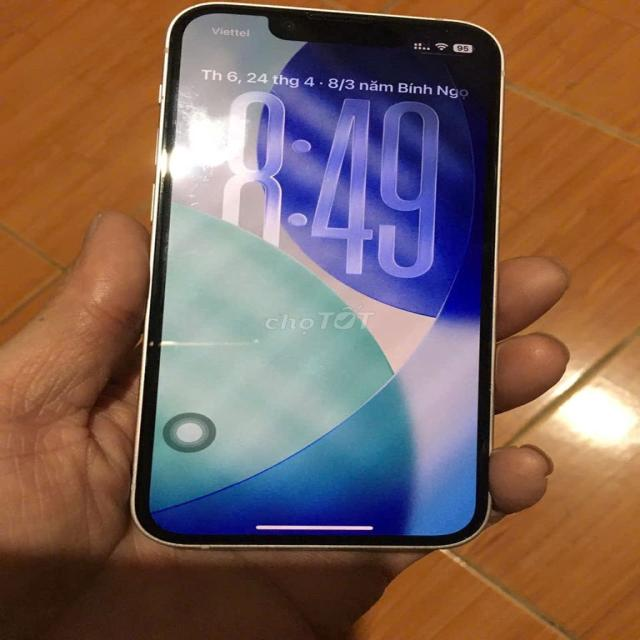gen_12_13: (128, 0, 538, 572)
